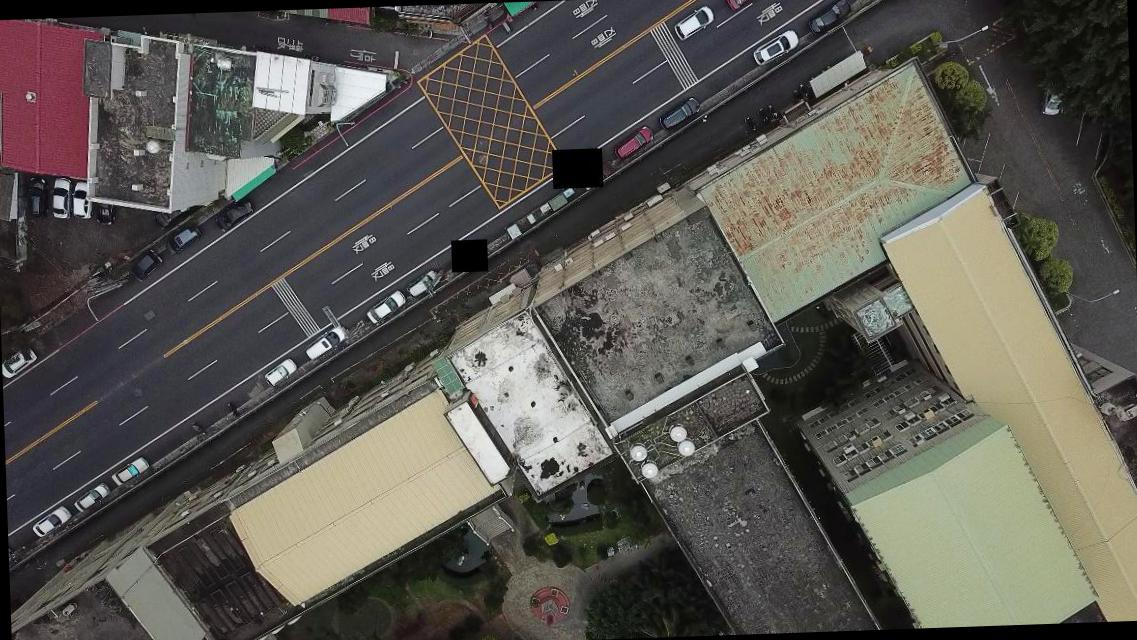vehicle: (749, 26, 800, 64), (210, 195, 256, 232), (805, 0, 852, 36), (614, 124, 657, 161), (365, 289, 406, 326), (303, 325, 346, 360), (673, 5, 715, 39), (658, 98, 701, 130), (108, 457, 152, 486), (164, 220, 202, 253), (73, 482, 112, 514), (128, 248, 162, 284), (0, 344, 36, 378), (31, 506, 71, 536), (404, 266, 441, 298), (263, 356, 296, 386), (26, 175, 49, 218), (51, 176, 73, 219), (72, 182, 91, 220)
